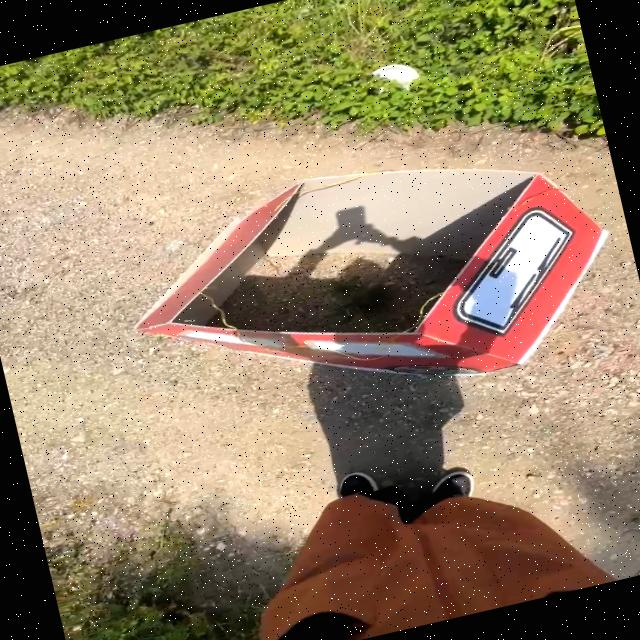red_car: (65, 91, 640, 473)
